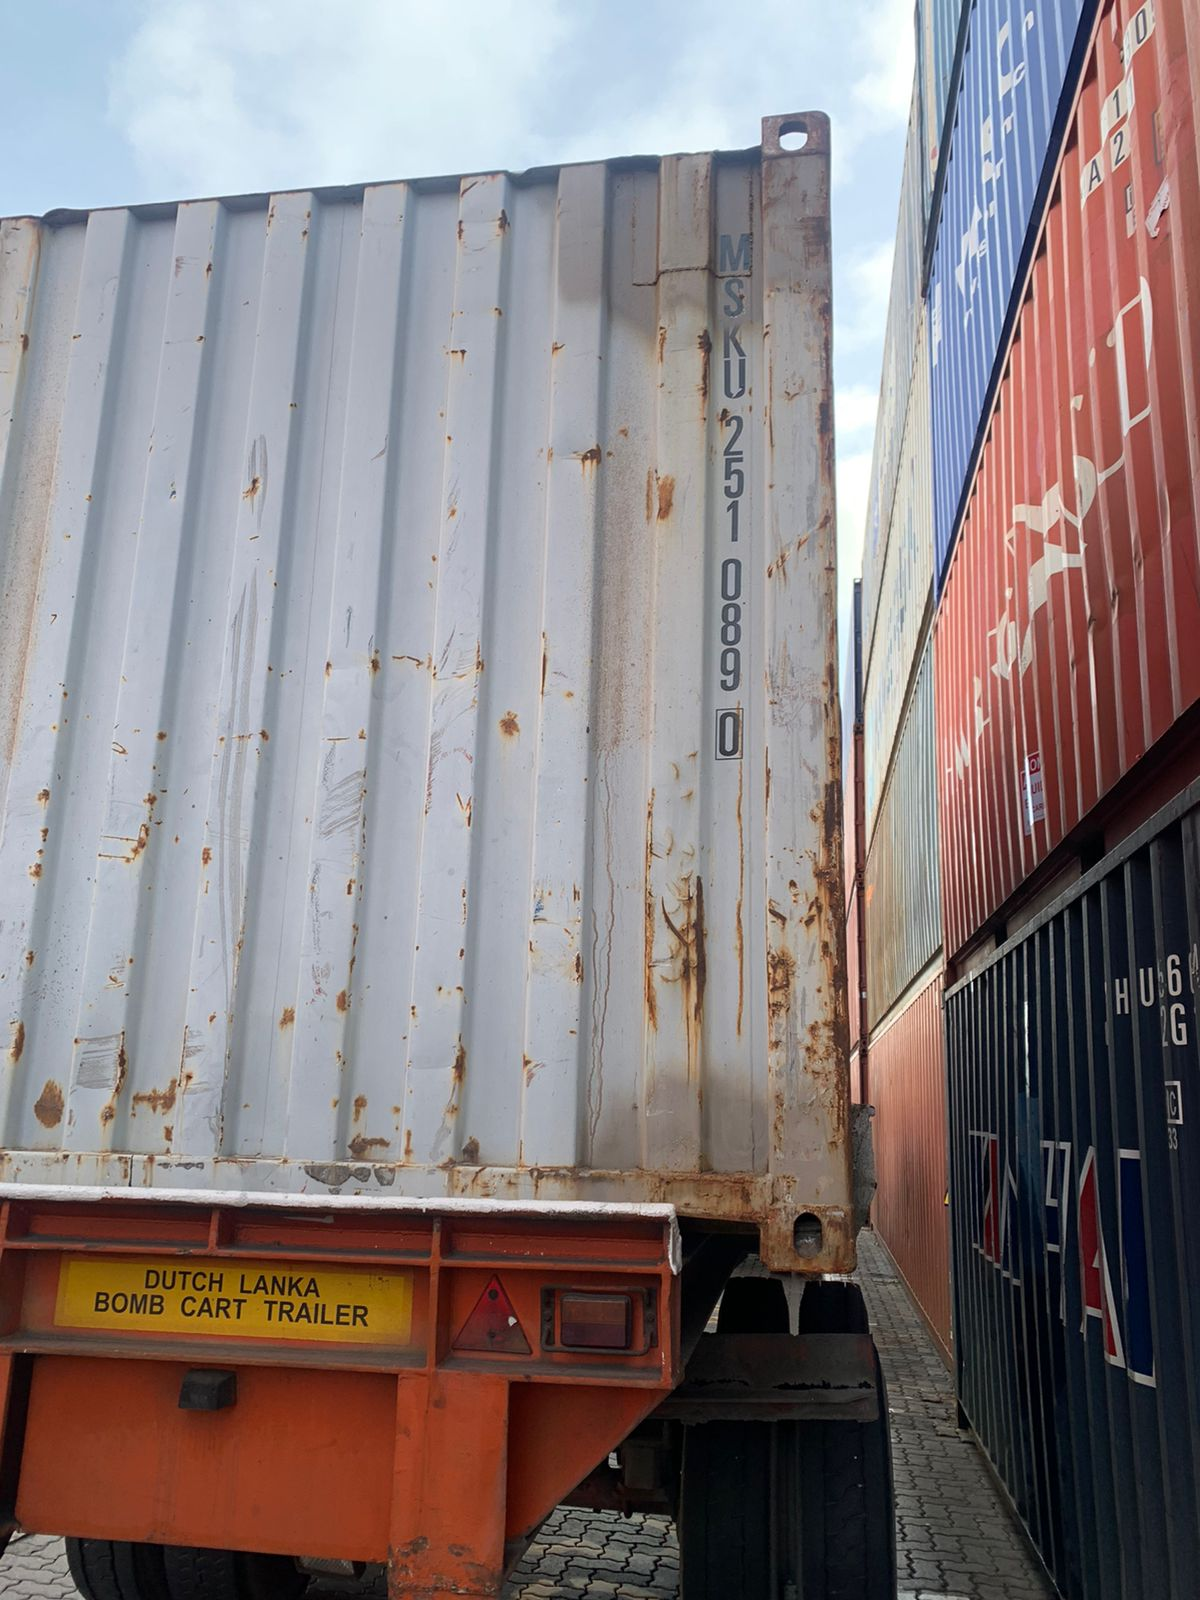rust: (645, 852, 802, 1082), (61, 1028, 239, 1141)
